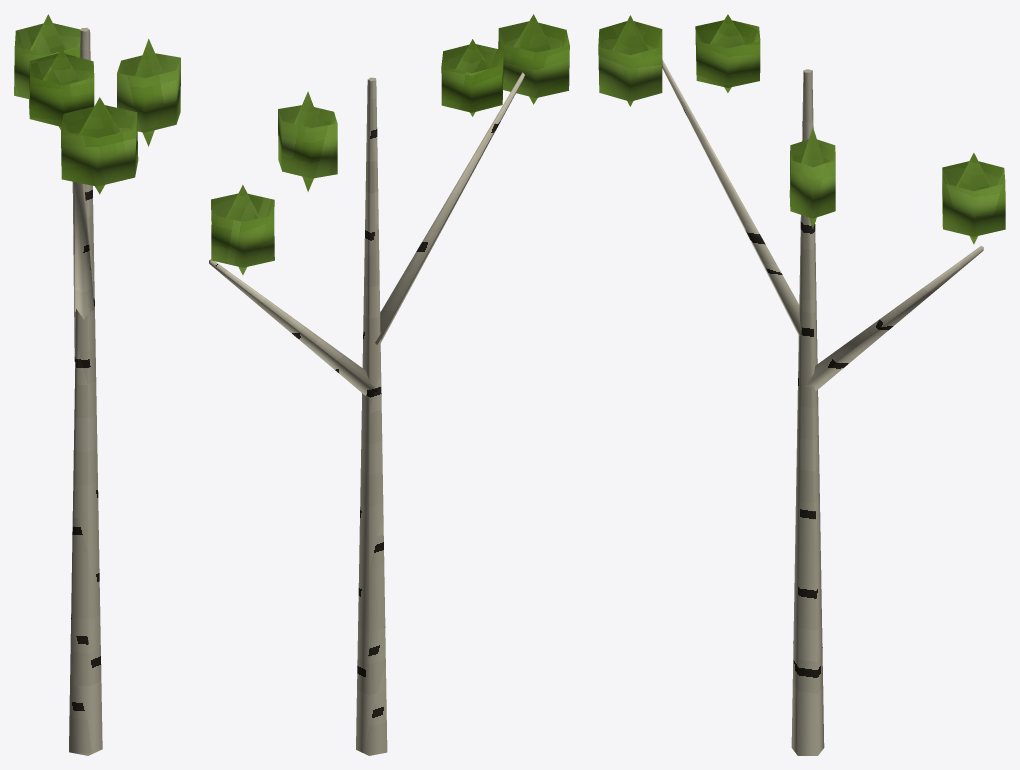
Rendered from birch03-lod2.glb.
The picture shows the model from 3 angles, left to right: view 1: azimuth 30°, elevation 25°; view 2: azimuth 150°, elevation 25°; view 3: azimuth 270°, elevation 25°; orthographic projection. The views are drawn at different scales.
Visible parts, largest first — view 1: TZ_birch_Batch_01_LOD2, TZ_birch_Batch_00_LOD2; view 2: TZ_birch_Batch_00_LOD2, TZ_birch_Batch_01_LOD2; view 3: TZ_birch_Batch_00_LOD2, TZ_birch_Batch_01_LOD2.
Part boxes in pixels (x1,y1,x2,y2): TZ_birch_Batch_01_LOD2: (14,14,180,194); TZ_birch_Batch_00_LOD2: (69,27,102,755); TZ_birch_Batch_00_LOD2: (209,72,524,755); TZ_birch_Batch_01_LOD2: (211,14,569,274); TZ_birch_Batch_00_LOD2: (662,59,983,755); TZ_birch_Batch_01_LOD2: (598,14,1005,244).
Size of the model in its own units: 2.19 by 7.2 by 3.76.
2 materials, 2 textured.
